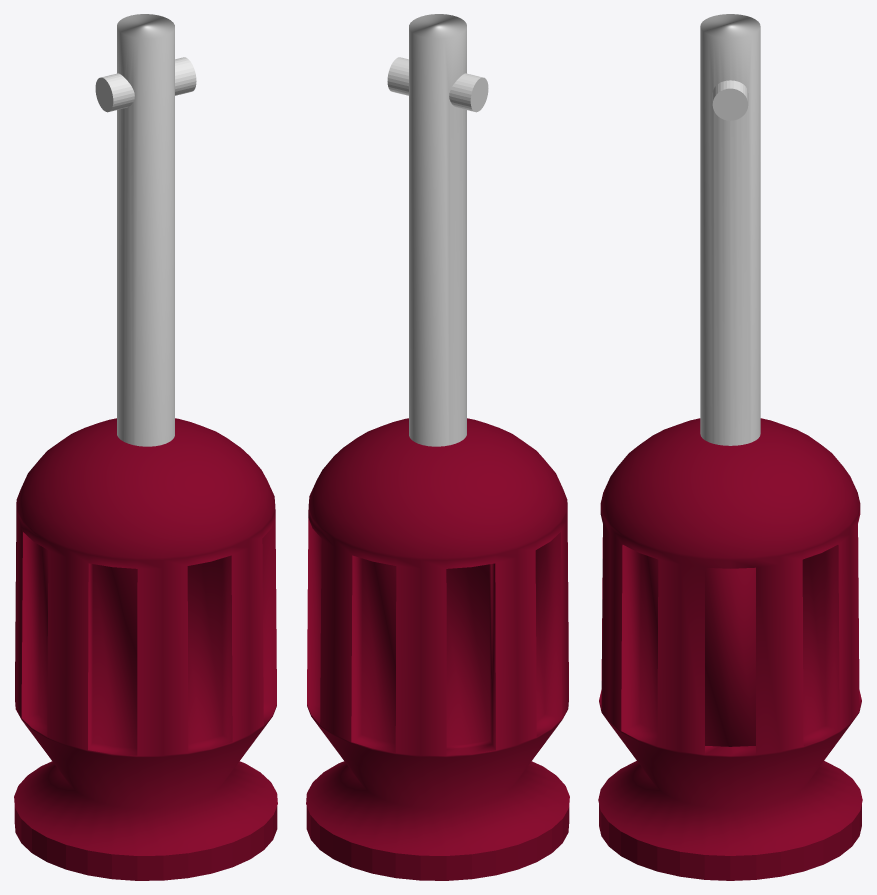
The model's file is ドライバー持ち手.fbx.
The picture shows the model from 3 angles, left to right: view 1: azimuth 30°, elevation 25°; view 2: azimuth 150°, elevation 25°; view 3: azimuth 270°, elevation 25°; orthographic projection.
Parts seen in each view (by area): view 1: 球, ドライバー, 円柱; view 2: 球, ドライバー, 円柱; view 3: 球, ドライバー, 円柱.
Boxes of the visible parts, left/top/right/bottom form: 球: left=14, top=418, right=277, bottom=880; ドライバー: left=117, top=14, right=174, bottom=446; 円柱: left=95, top=57, right=196, bottom=112; 球: left=306, top=418, right=569, bottom=880; ドライバー: left=409, top=14, right=466, bottom=446; 円柱: left=387, top=57, right=488, bottom=112; 球: left=598, top=418, right=862, bottom=880; ドライバー: left=700, top=14, right=760, bottom=445; 円柱: left=712, top=80, right=748, bottom=120.
Size of the model in its own units: 601 by 2005 by 601.
